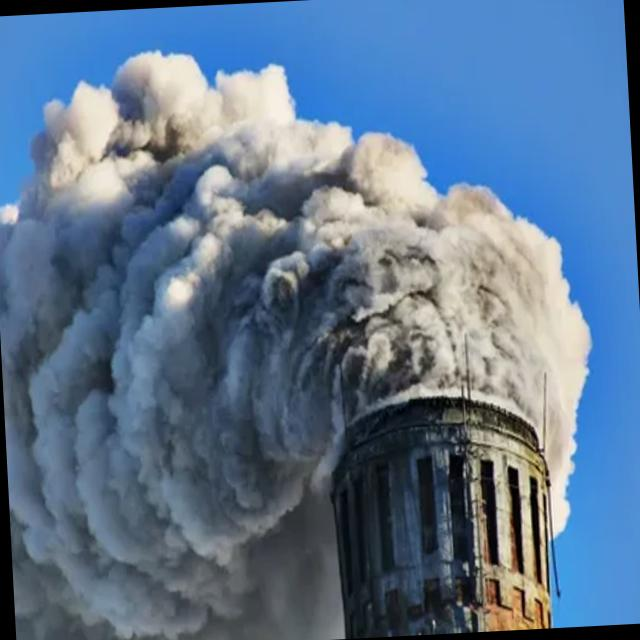Smoke: (0, 30, 604, 611)
